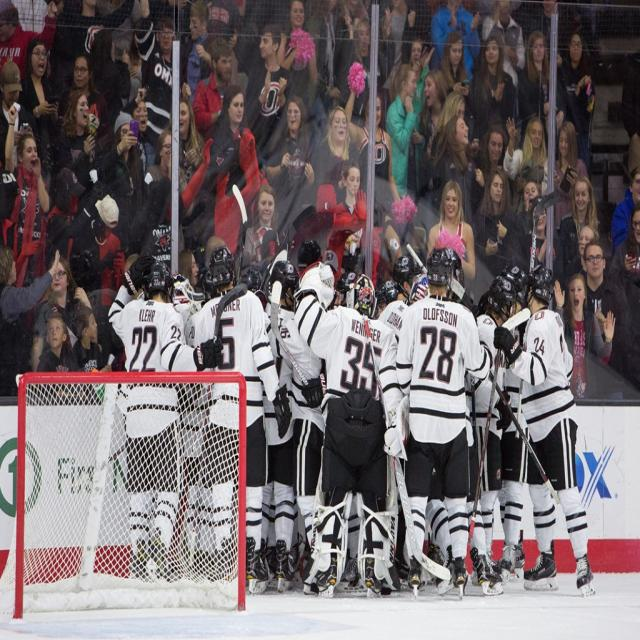body: (289, 255, 407, 606), (106, 252, 226, 590), (491, 259, 601, 599), (391, 246, 497, 593), (192, 242, 292, 598), (393, 241, 475, 591), (134, 268, 202, 597), (276, 238, 336, 580), (252, 509, 488, 590), (464, 266, 520, 584), (383, 269, 433, 593), (254, 258, 302, 590), (342, 57, 412, 273), (489, 261, 534, 584), (133, 134, 215, 277), (3, 101, 52, 328), (134, 0, 193, 171), (0, 243, 62, 396), (208, 83, 262, 257), (264, 91, 322, 250), (29, 252, 99, 372), (384, 61, 426, 255), (554, 273, 617, 400), (242, 20, 296, 168), (578, 236, 633, 381), (36, 164, 104, 278), (304, 178, 386, 272), (550, 28, 598, 178), (513, 26, 558, 170), (19, 37, 60, 195), (100, 109, 144, 252), (431, 113, 481, 230), (424, 176, 478, 282), (68, 191, 125, 291), (379, 0, 422, 132), (143, 128, 188, 254), (472, 164, 522, 277), (147, 0, 190, 127), (0, 0, 60, 91), (306, 104, 360, 205), (52, 90, 104, 192), (467, 33, 515, 142), (0, 0, 59, 88), (557, 173, 602, 287), (53, 0, 135, 60), (553, 120, 591, 246), (192, 34, 235, 144), (276, 0, 318, 109), (33, 308, 81, 403), (96, 0, 146, 91), (430, 0, 482, 87), (87, 26, 132, 125), (619, 24, 639, 245), (68, 302, 110, 406), (304, 0, 342, 114), (0, 58, 38, 172), (56, 52, 106, 137), (480, 0, 526, 89), (418, 66, 450, 192), (502, 115, 549, 197), (180, 0, 216, 106), (120, 84, 162, 174), (429, 88, 481, 159), (376, 252, 425, 326), (529, 0, 570, 87), (242, 183, 283, 270), (168, 94, 205, 187), (439, 31, 474, 125), (526, 197, 561, 288), (610, 164, 640, 256), (332, 159, 367, 231), (610, 204, 640, 281), (336, 0, 370, 67), (205, 1, 242, 62), (514, 179, 542, 259), (563, 224, 600, 282), (474, 123, 506, 190), (409, 37, 436, 114), (371, 278, 401, 319), (230, 1, 260, 41), (354, 18, 372, 72), (186, 273, 210, 312), (178, 248, 200, 289), (239, 260, 265, 291), (205, 234, 227, 268), (121, 248, 142, 271)
